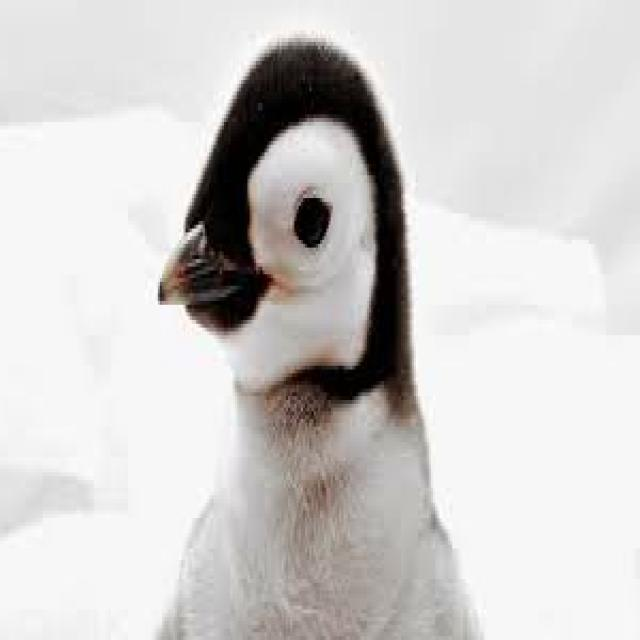penguin: (160, 38, 476, 636)
